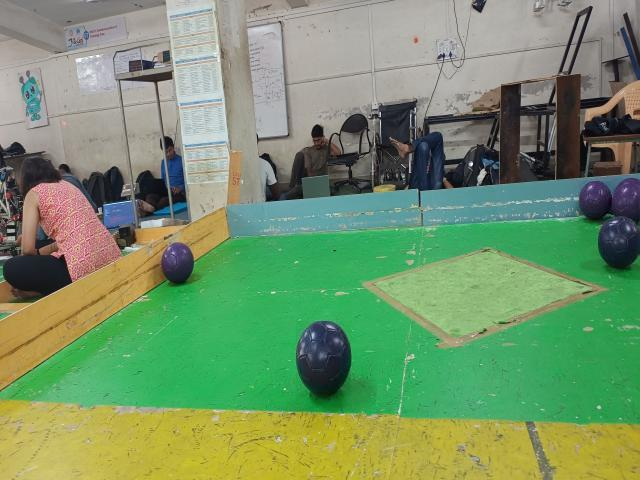jambhalya: (161, 242, 194, 283), (579, 181, 612, 221), (611, 179, 640, 223)
kaalyya: (296, 321, 351, 396), (599, 217, 639, 268)
